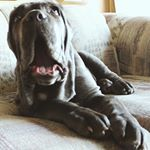puppy: (4, 1, 91, 119)
